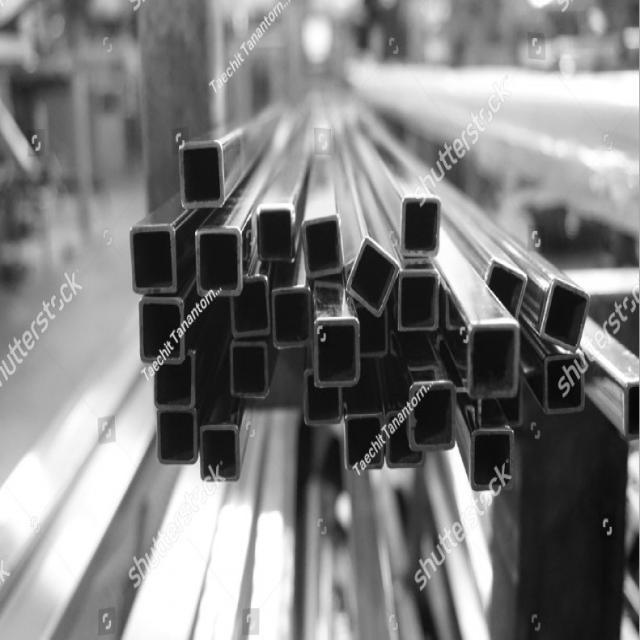pipe: (349, 242, 398, 315), (543, 281, 589, 349), (470, 327, 516, 394), (130, 228, 175, 291), (315, 321, 358, 384), (180, 144, 221, 207), (197, 233, 239, 292), (141, 302, 182, 361), (414, 386, 452, 445), (304, 217, 342, 275), (546, 356, 584, 412), (487, 262, 526, 315), (398, 275, 438, 326), (402, 202, 438, 256), (233, 279, 268, 334), (345, 416, 383, 466), (154, 356, 191, 407), (201, 428, 238, 478), (258, 207, 293, 259), (274, 290, 308, 343), (388, 415, 424, 465), (305, 372, 340, 423), (475, 433, 510, 484), (232, 345, 267, 395), (158, 412, 193, 461), (363, 322, 385, 352)
